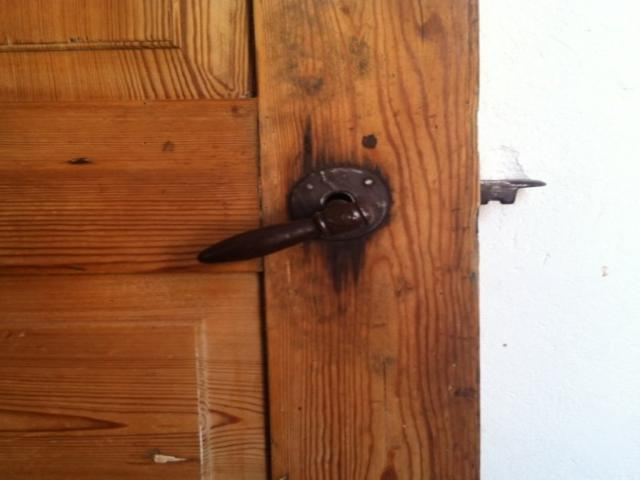Door-handle: (197, 167, 395, 264)
